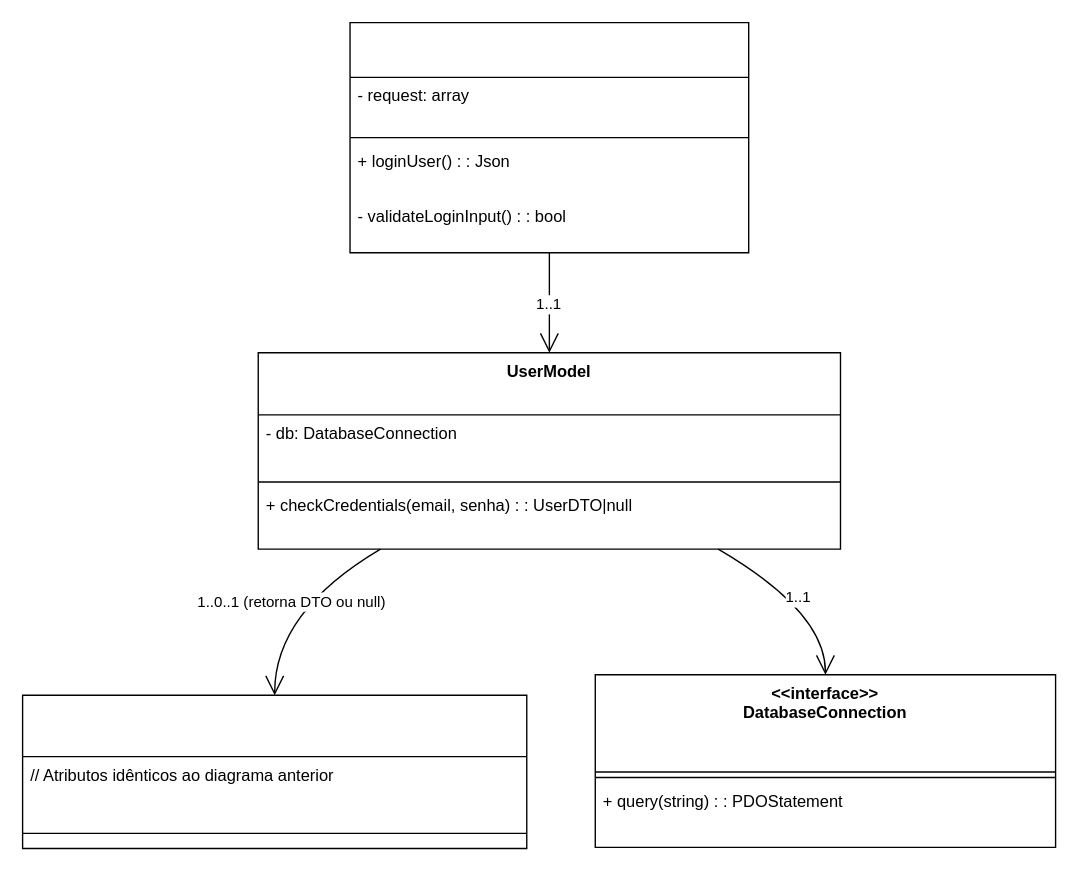
The diagram is 1078 pixels wide and 871 high, and some of its shapes have lost their labels. Each missing label, with the box of its shape:
UserController: (349, 21, 749, 253)
UserDTO: (21, 694, 527, 848)
